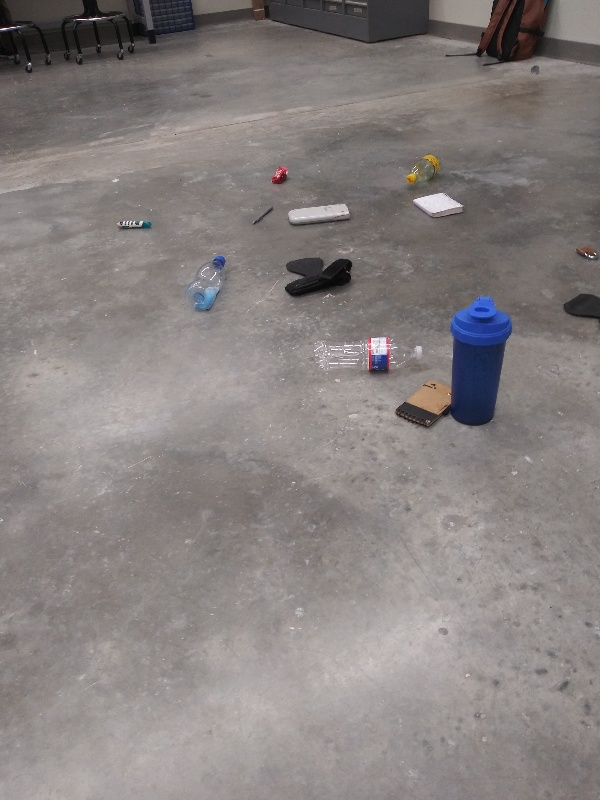bottle: (305, 335, 427, 375), (184, 251, 231, 315), (401, 148, 445, 189)
